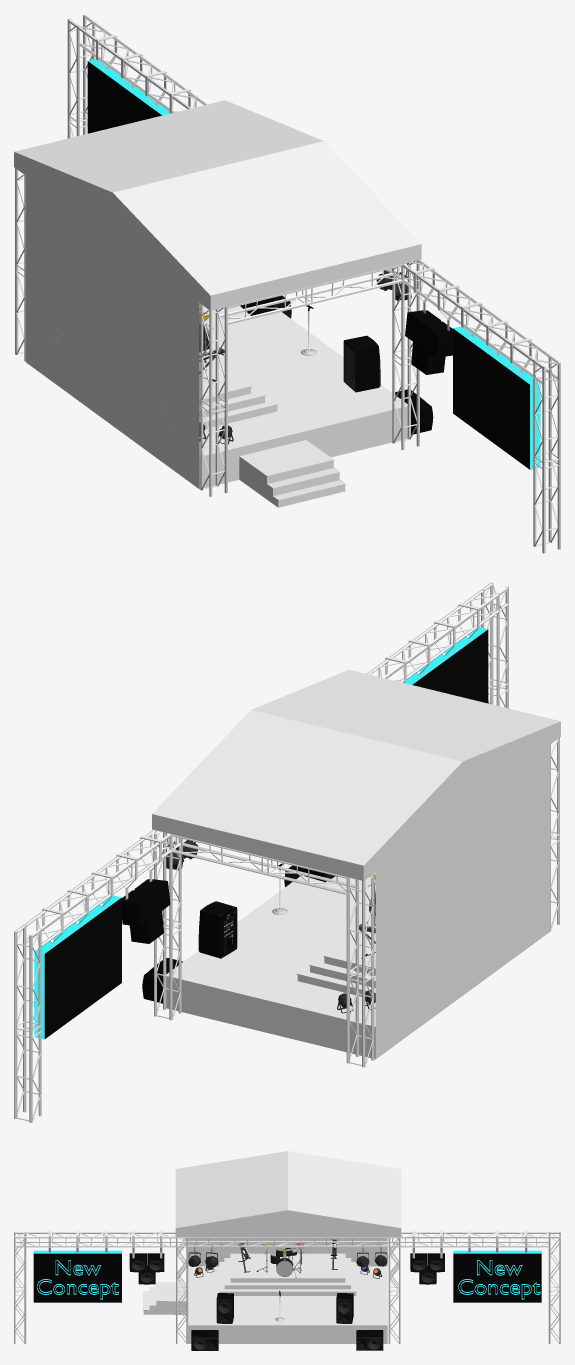
File: Stage.glb
3 views of the same model, one above another, from view 1: azimuth 30°, elevation 25°; view 2: azimuth 150°, elevation 25°; view 3: azimuth 270°, elevation 25° (orthographic). The views are drawn at different scales.
Visible parts, largest first — view 1: Cube, Cube.001, Cube.021, Cylinder.006, Cylinder.005, Cylinder.003, Cylinder.002, Cylinder.012, Woofer * tweaker * Casing.002, Cylinder.004, Cylinder.001, Woofer * tweaker * Casing.008 (+3 smaller); view 2: Cube, Cube.001, Cylinder.006, Cylinder.004, Cylinder.001, Cylinder, Cylinder.011, Cylinder.005, Woofer * tweaker * Casing, Cylinder.003, Woofer * tweaker * Casing.005, Woofer * tweaker * Casing.007 (+2 smaller); view 3: Cube, Cube.001, Cylinder.006, Cube.021, Cylinder.004, Cylinder.005, Cylinder.002, Cylinder, Text.001, Text, Woofer * tweaker * Casing.001, Woofer * tweaker * Casing.003 (+6 smaller).
Part boxes in pixels (x1,y1,x2,y2): Cube: [14, 100, 421, 489]; Cube.001: [87, 34, 540, 469]; Cube.021: [239, 440, 345, 507]; Cylinder.006: [67, 15, 559, 383]; Cylinder.005: [533, 355, 560, 553]; Cylinder.003: [200, 304, 227, 496]; Cylinder.002: [392, 260, 419, 450]; Cylinder.012: [217, 264, 402, 324]; Woofer * tweaker * Casing.002: [343, 335, 380, 392]; Cylinder.004: [67, 14, 95, 138]; Cylinder.001: [15, 168, 25, 361]; Woofer * tweaker * Casing.008: [420, 321, 452, 357]; Cube: [152, 669, 560, 1059]; Cube.001: [34, 603, 488, 1039]; Cylinder.006: [16, 583, 508, 946]; Cylinder.004: [14, 924, 41, 1122]; Cylinder.001: [346, 874, 374, 1067]; Cylinder: [154, 830, 181, 1020]; Cylinder.011: [171, 834, 357, 894]; Cylinder.005: [481, 582, 508, 708]; Woofer * tweaker * Casing: [198, 901, 237, 958]; Cylinder.003: [550, 738, 559, 931]; Woofer * tweaker * Casing.005: [122, 890, 154, 926]; Woofer * tweaker * Casing.007: [129, 911, 163, 943]; Cube: [175, 1151, 401, 1343]; Cube.001: [33, 1231, 541, 1302]; Cylinder.006: [15, 1232, 560, 1247]; Cube.021: [143, 1282, 186, 1314]; Cylinder.004: [548, 1231, 560, 1343]; Cylinder.005: [14, 1231, 26, 1343]; Cylinder.002: [176, 1238, 188, 1343]; Cylinder: [388, 1238, 400, 1343]; Text.001: [458, 1260, 540, 1299]; Text: [37, 1260, 118, 1299]; Woofer * tweaker * Casing.001: [356, 1330, 383, 1350]; Woofer * tweaker * Casing.003: [191, 1330, 218, 1350].
Size of what is drawn, in the model's own units: 6.7 by 6.26 by 23.14.
51 materials, 4 textured.
